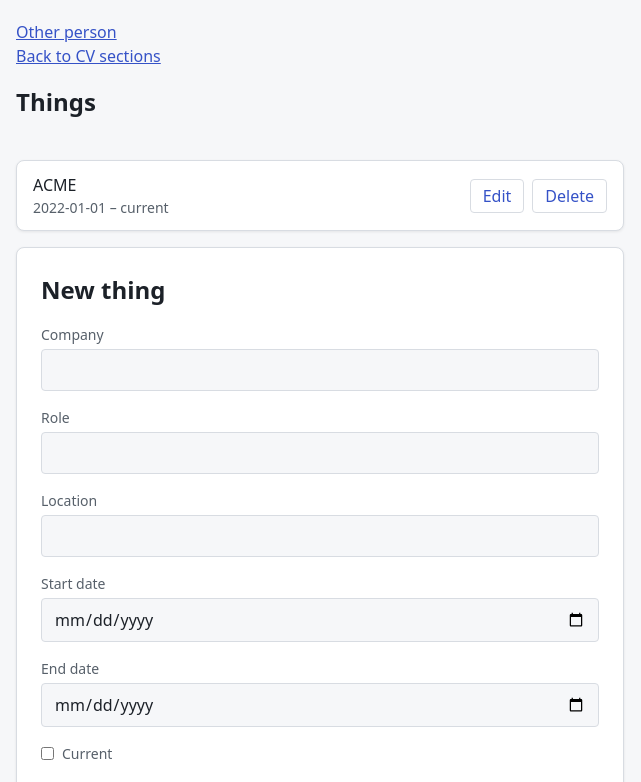
Test: SectionPage › Cancel leaves edit mode and clears the problems
This screenshot has width=641, height=782.
Click the button with aria-label "Edit ACME": (497, 196) top-left (470, 178), bottom-right (524, 212)
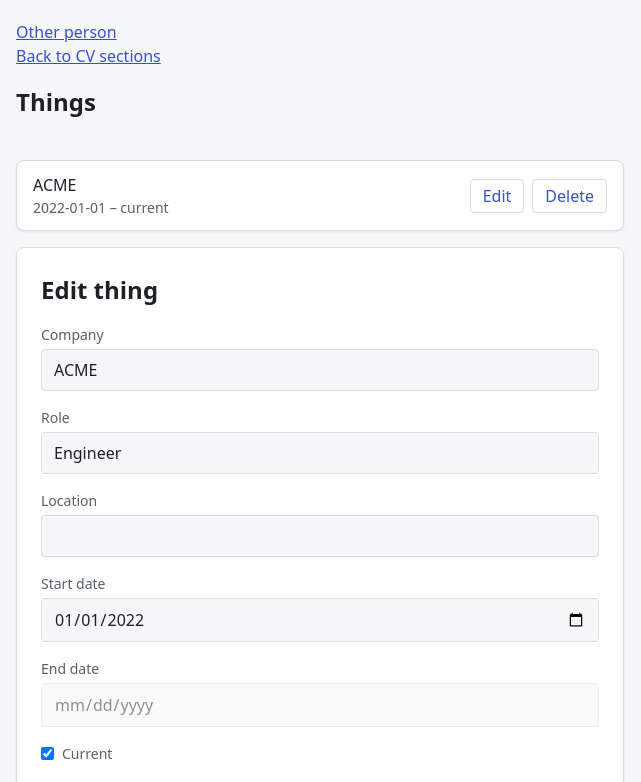
Clear the field labelled "Company": (320, 370) top-left (41, 349), bottom-right (599, 391)
(page scrolled)
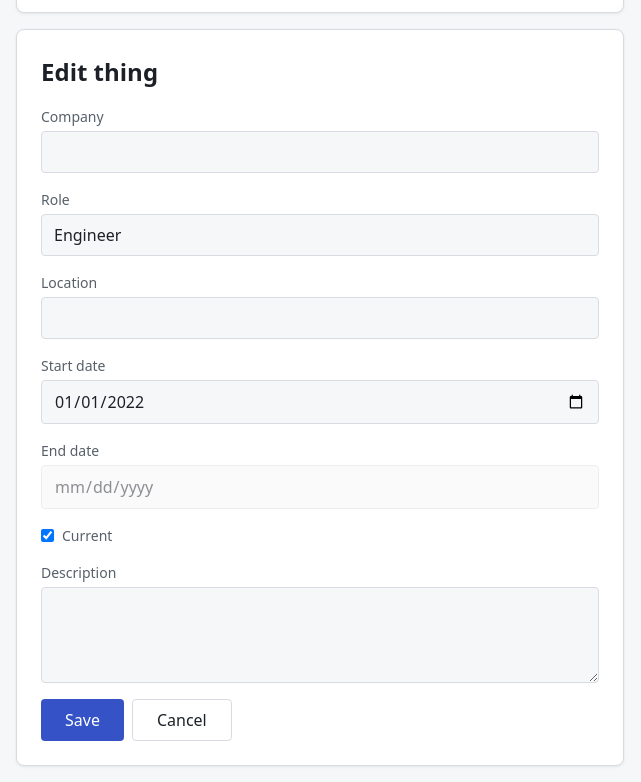
Click the button "Save": (82, 720) top-left (41, 699), bottom-right (124, 741)
(page scrolled)
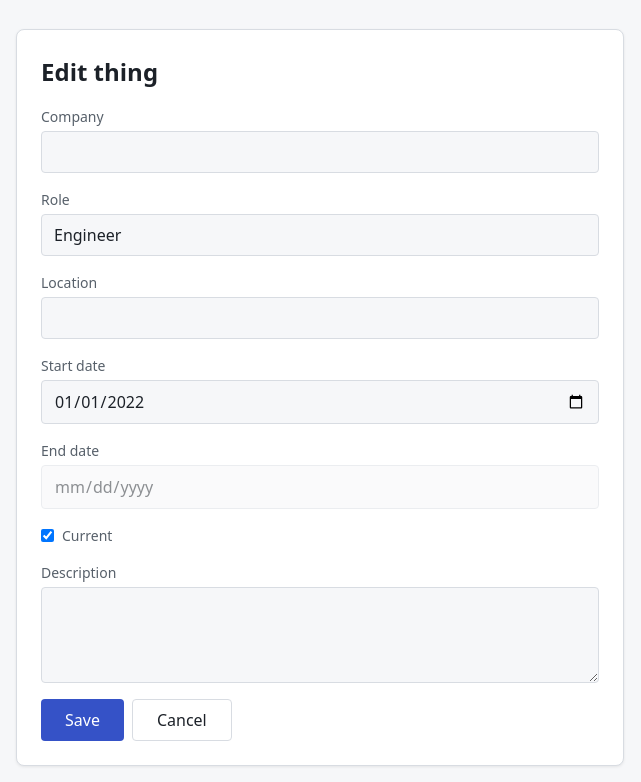
Click the button "Cancel": (182, 720) top-left (132, 699), bottom-right (232, 741)
(page scrolled)
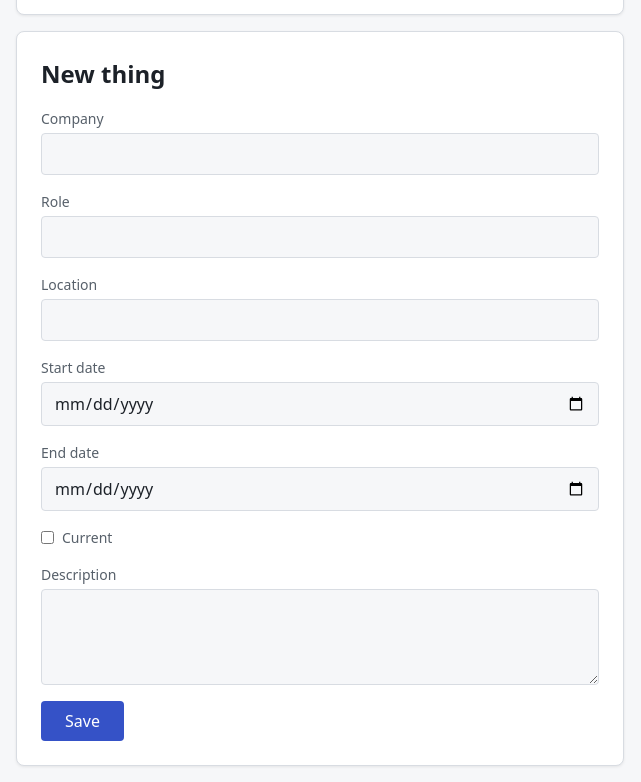
Expected: the heading "New thing" is shown, top-left (41, 57), bottom-right (166, 90)
